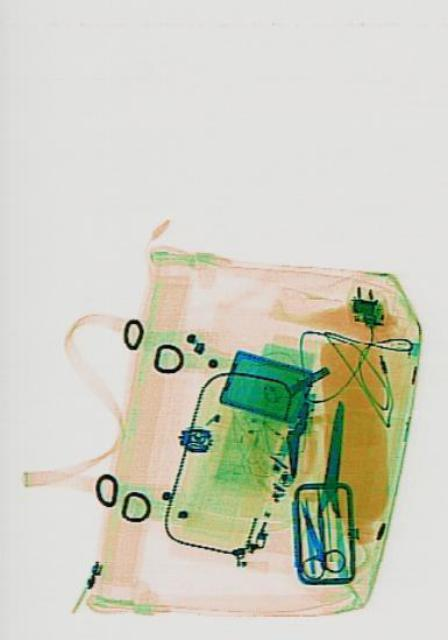Scissors: (282, 489, 345, 585)
